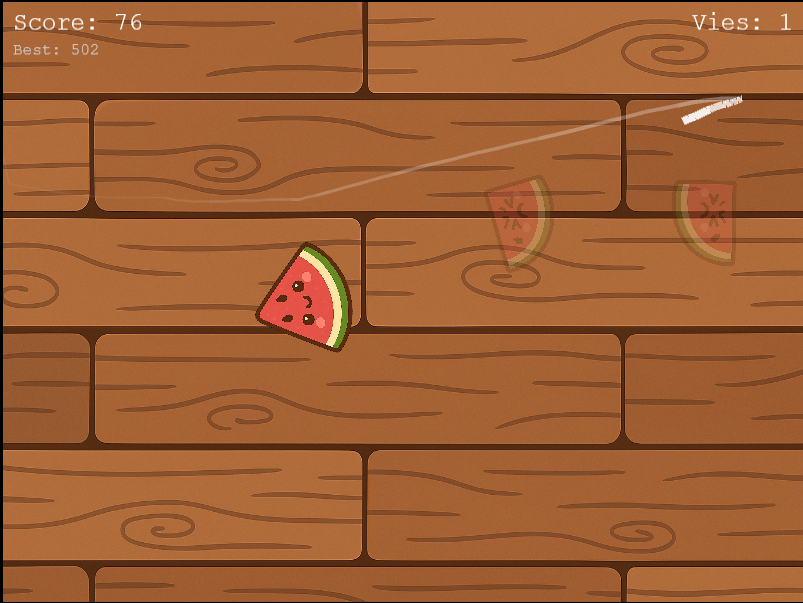fruit: (252, 240, 364, 352)
